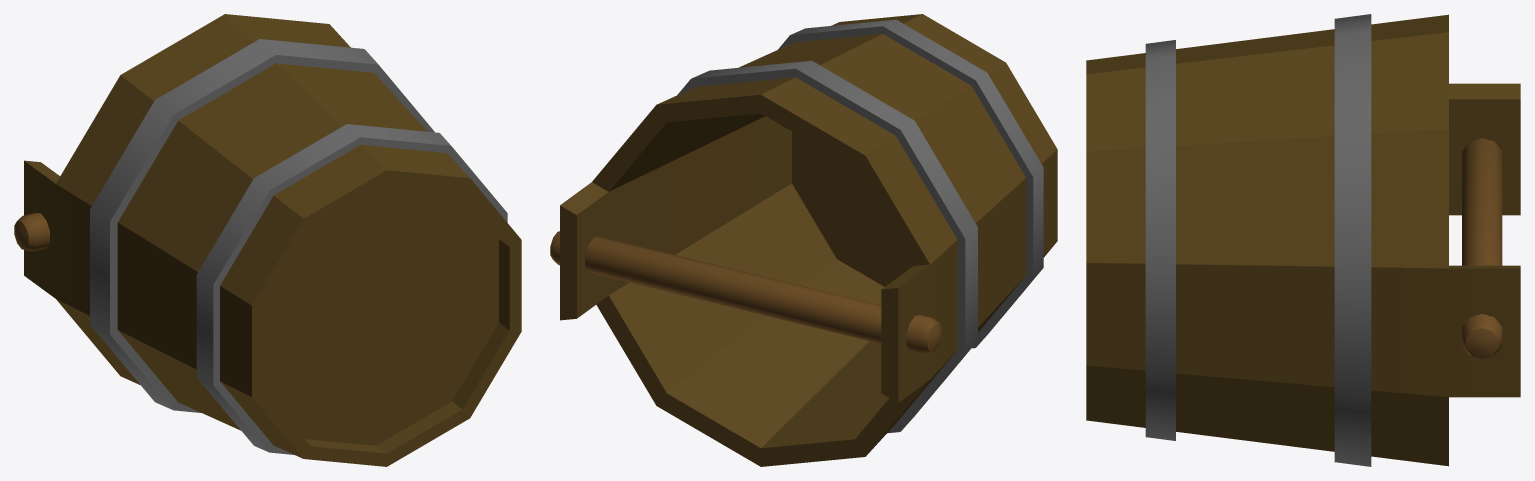
Rendered from WoodBucket.fbx.
3 renders of one model, left to right at view 1: azimuth 30°, elevation 25°; view 2: azimuth 150°, elevation 25°; view 3: azimuth 270°, elevation 25°, orthographic. The views are drawn at different scales.
Parts seen in each view (by area): view 1: Cylinder; view 2: Cylinder; view 3: Cylinder.
Boxes of the visible parts, x1,y1,x2,y2 form: Cylinder: (14,14,521,466); Cylinder: (550,14,1057,466); Cylinder: (1086,14,1520,466).
Bounding box in the file's own units: 270 × 252 × 237.
